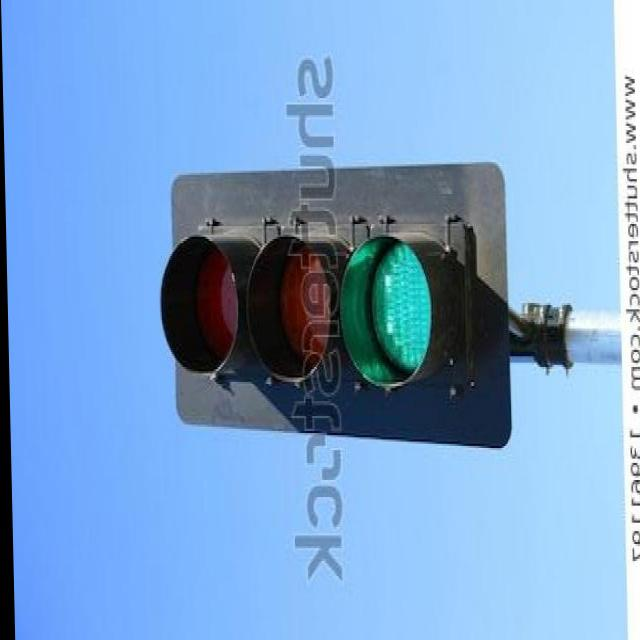green light: (154, 205, 493, 421)
